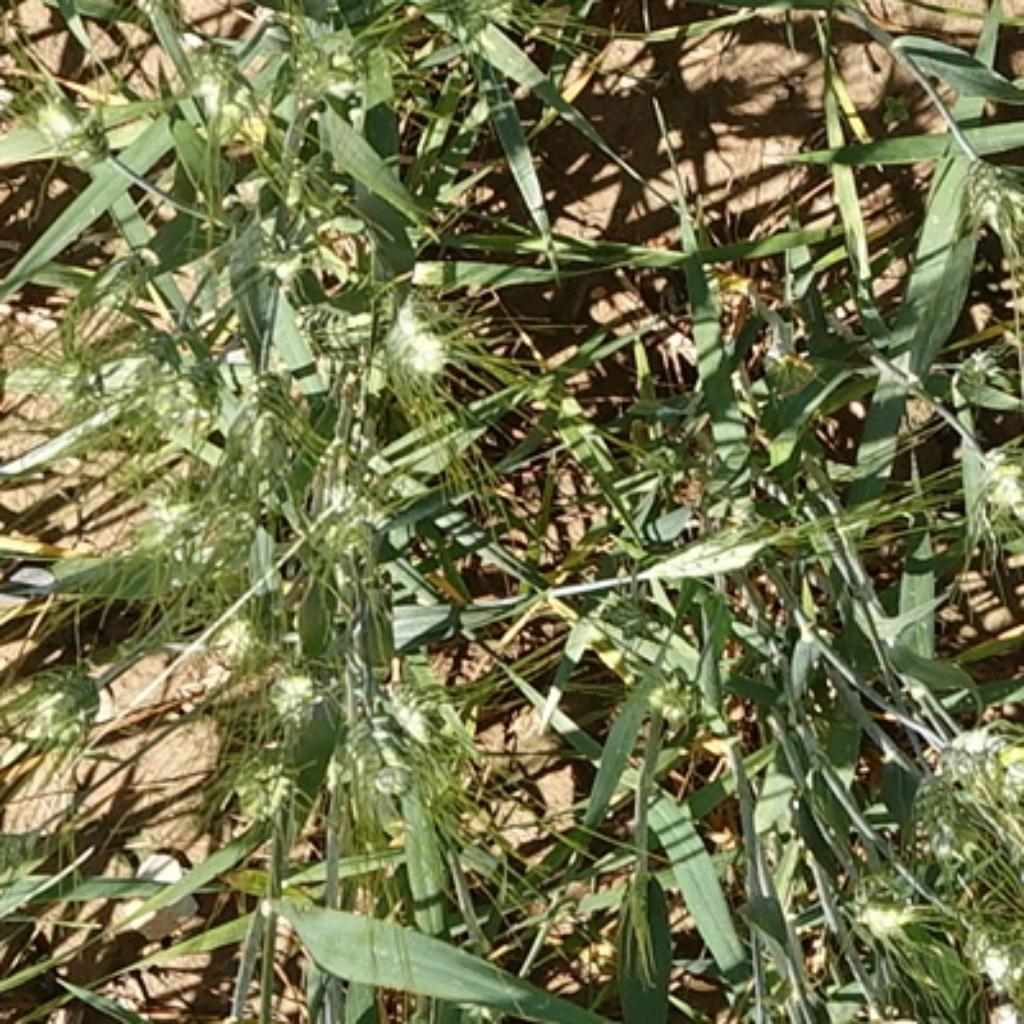0-0: (209, 343, 309, 491), (161, 34, 263, 152), (271, 0, 378, 104), (648, 513, 777, 596), (14, 645, 107, 758), (323, 695, 422, 796), (308, 477, 417, 567), (921, 724, 1024, 819), (215, 721, 304, 819), (947, 419, 1024, 532), (947, 916, 1024, 1018), (832, 864, 920, 947), (952, 145, 1024, 245), (389, 294, 465, 386), (245, 650, 327, 729), (30, 96, 119, 168), (629, 680, 727, 744), (913, 773, 977, 870), (199, 599, 276, 673), (385, 691, 457, 757), (302, 299, 386, 353), (250, 235, 320, 299)
